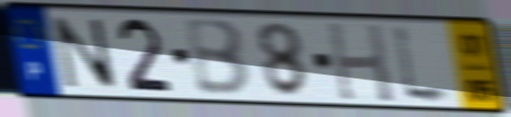2: (115, 16, 175, 96)
8: (255, 20, 312, 100)
B: (181, 17, 254, 99)
H: (324, 20, 397, 106)
L: (389, 20, 458, 110)
N: (49, 14, 122, 92)
